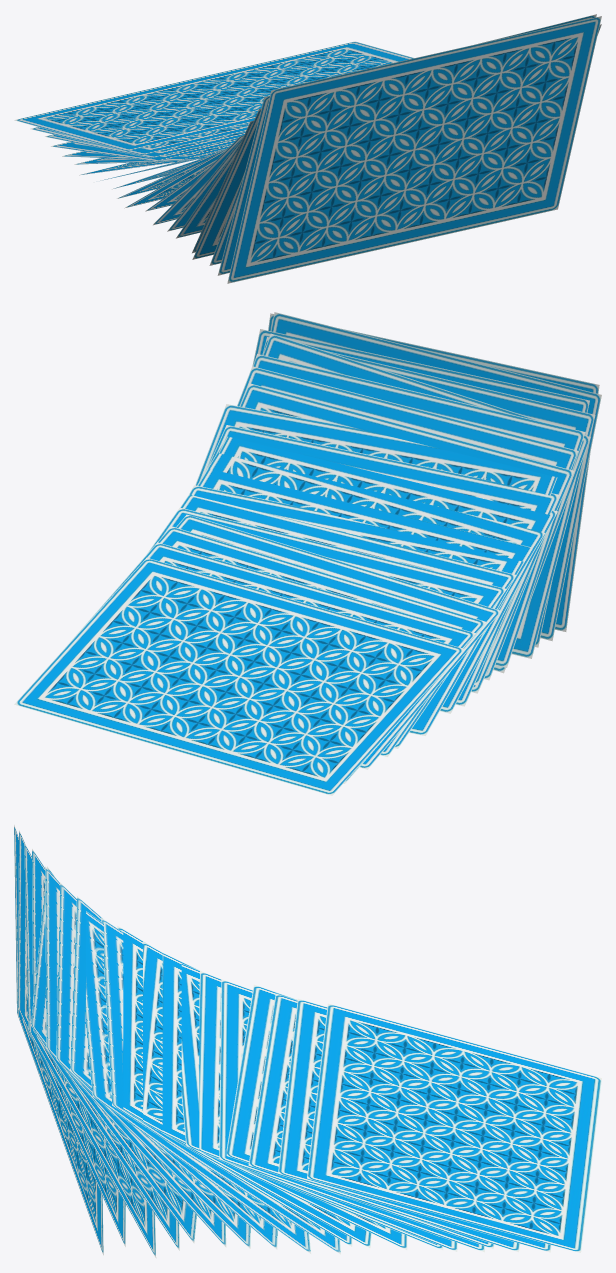
3 views of the same model, one above another, from view 1: azimuth 30°, elevation 25°; view 2: azimuth 150°, elevation 25°; view 3: azimuth 270°, elevation 25° (orthographic). The views are drawn at different scales.
Visible parts, largest first — view 1: Cards; view 2: Cards; view 3: Cards.
Boxes of the visible parts, x1,y1,x2,y2 form: Cards: (14, 14, 601, 283); Cards: (14, 312, 601, 795); Cards: (14, 825, 601, 1258).
Bounding box in the file's own units: 1.59 × 0.9912 × 2.07.
Materials: 1 (1 with a texture image).
